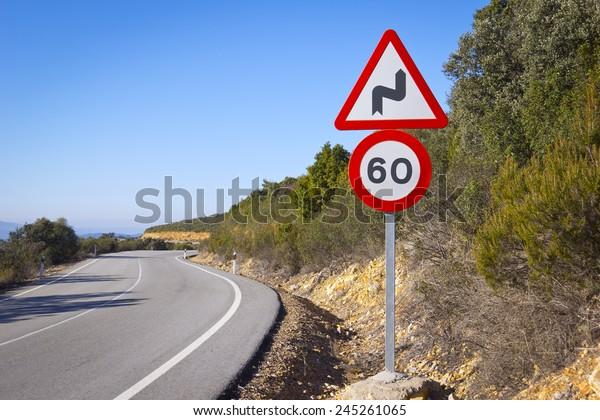Right Reverse Bend: (335, 29, 438, 130)
